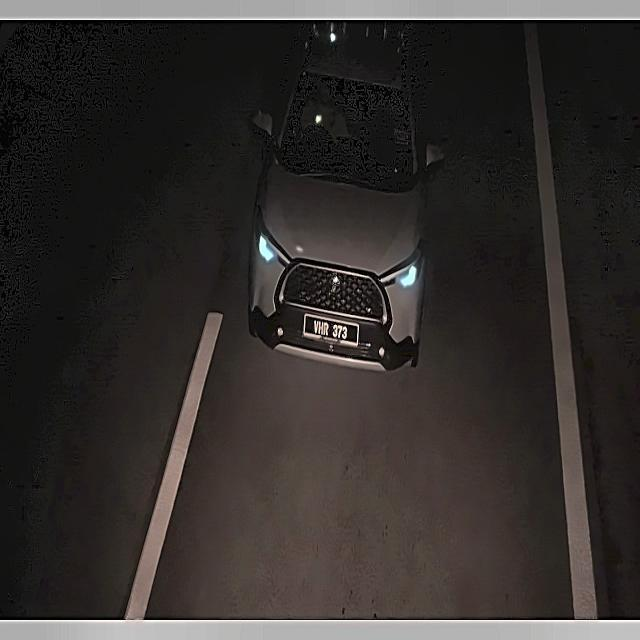car: (301, 306, 364, 355)
